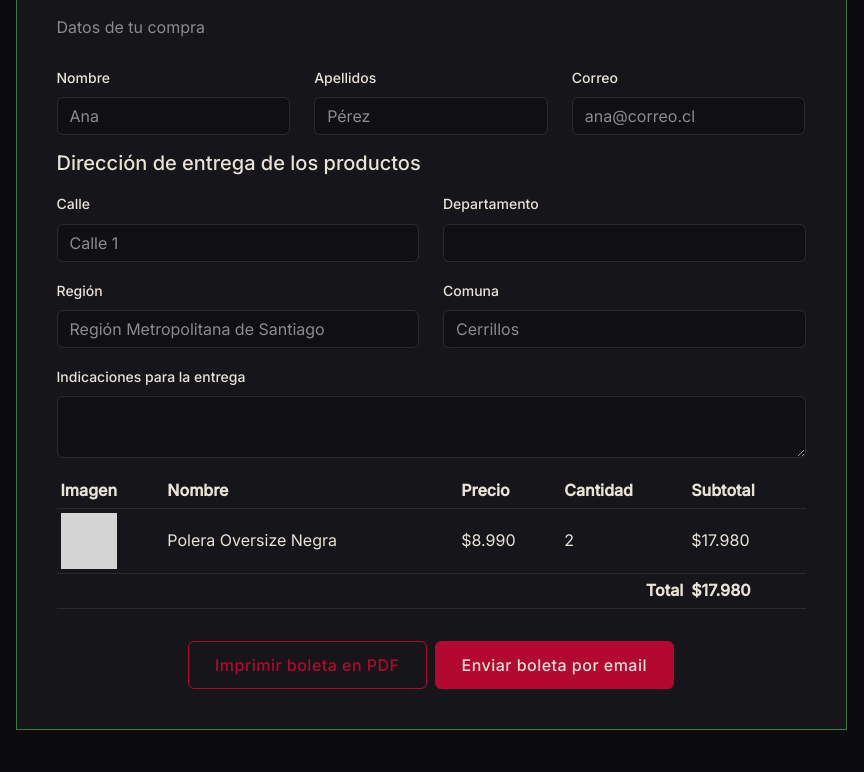
it: CompraResultado › "Enviar boleta por email" muestra el mensaje con el correo del cliente
The width and height of the screenshot is (864, 772).
(page scrolled)
expect the text "Se ha enviado la boleta" is not shown: met
Click the button "Enviar boleta por email". click: (554, 664)
box: [434,640,674,688]
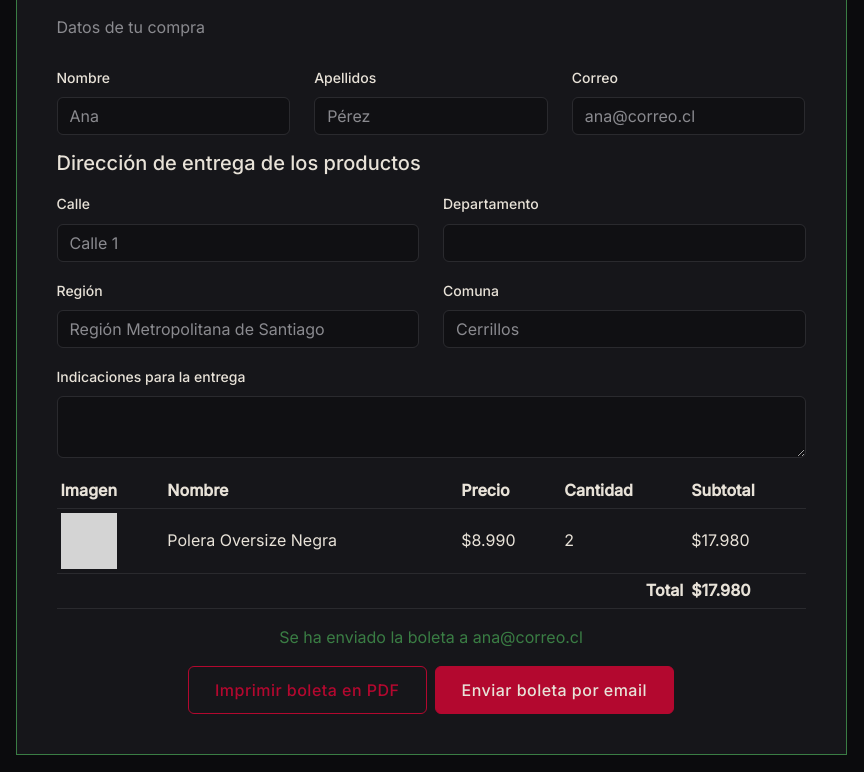
expect the text "Se ha enviado la boleta a ana@correo.cl" is shown: met, box [279,626,583,646]
